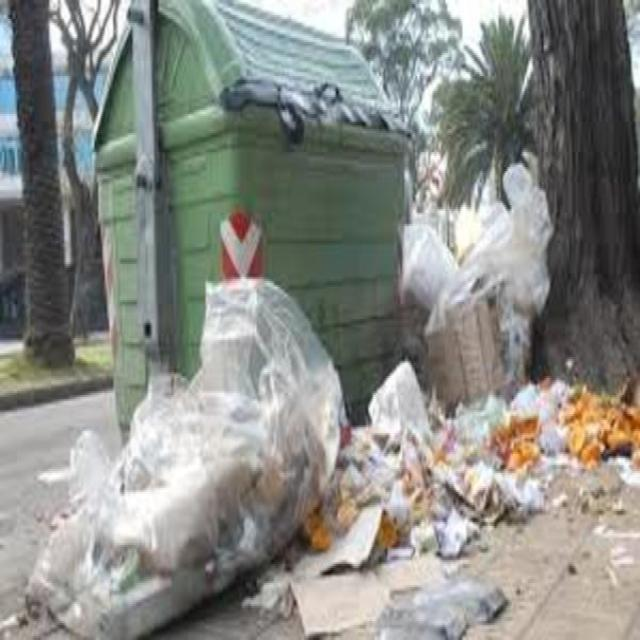garbage: (27, 268, 352, 640), (401, 152, 552, 408)
